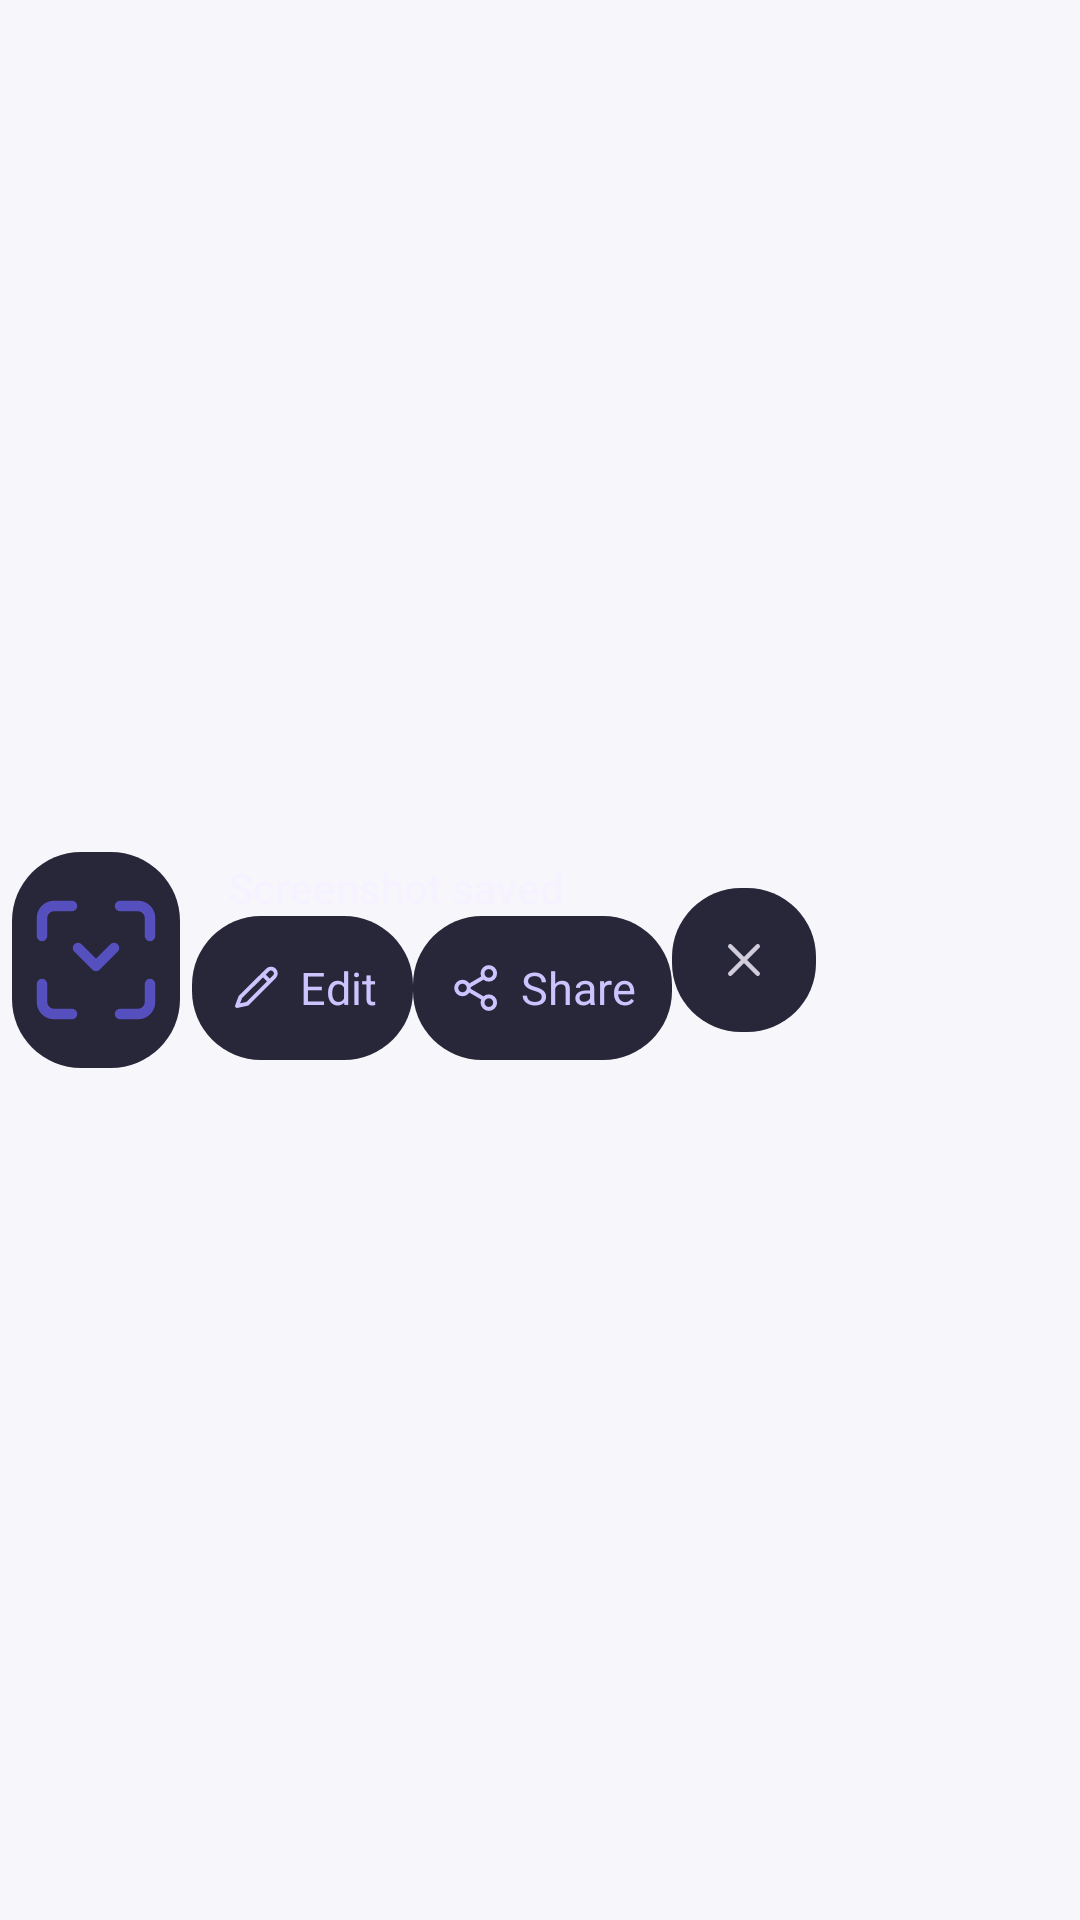

Named icons in this screenshot (1080px x 1920px) and their bounding boxes, rect(x1, y1, x2, y2):
Dismiss screenshot preview: rect(672, 888, 816, 1032)
Open saved screenshot: rect(12, 852, 180, 1068)
